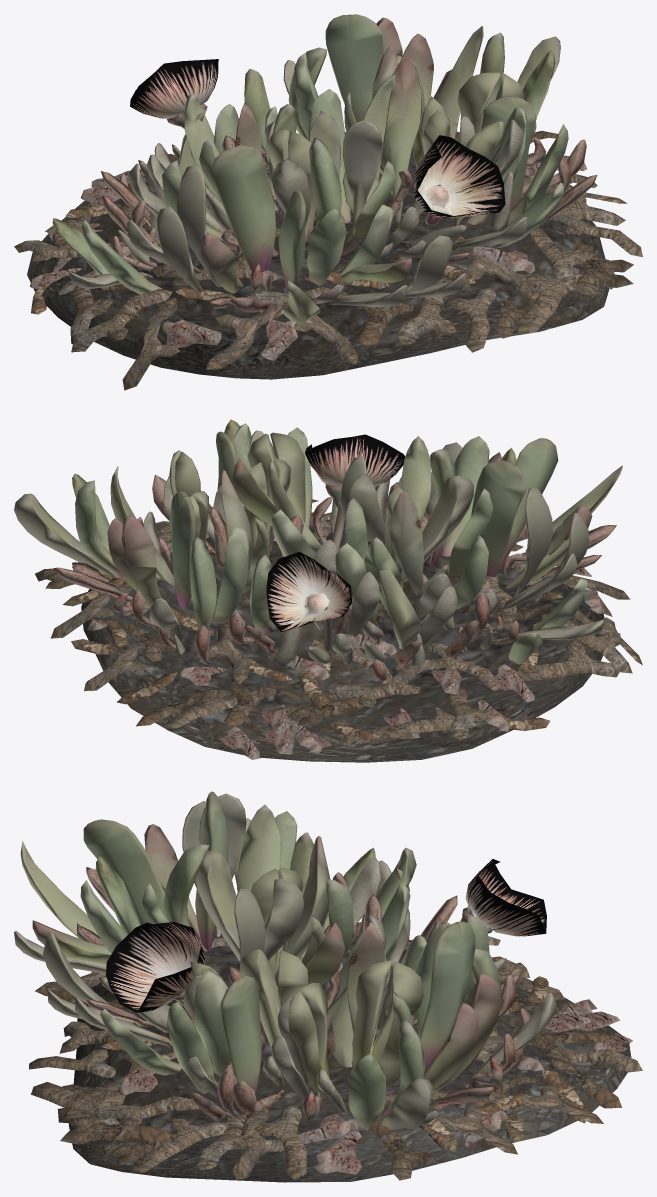
File: cheiridopsis_succulent_single_1.fbx
3 views of the same model, one above another, from view 1: azimuth 30°, elevation 25°; view 2: azimuth 150°, elevation 25°; view 3: azimuth 270°, elevation 25° (orthographic). The views are drawn at different scales.
Visible parts, largest first — view 1: cheiridopsis_succulent_single_1; view 2: cheiridopsis_succulent_single_1; view 3: cheiridopsis_succulent_single_1.
Boxes of the visible parts, bbox=[...] form: cheiridopsis_succulent_single_1: bbox=[14, 14, 642, 390]; cheiridopsis_succulent_single_1: bbox=[14, 419, 642, 762]; cheiridopsis_succulent_single_1: bbox=[14, 791, 642, 1182].
Size of the model in its own units: 0.6024 by 0.2 by 0.5336.
1 material, 1 textured.
